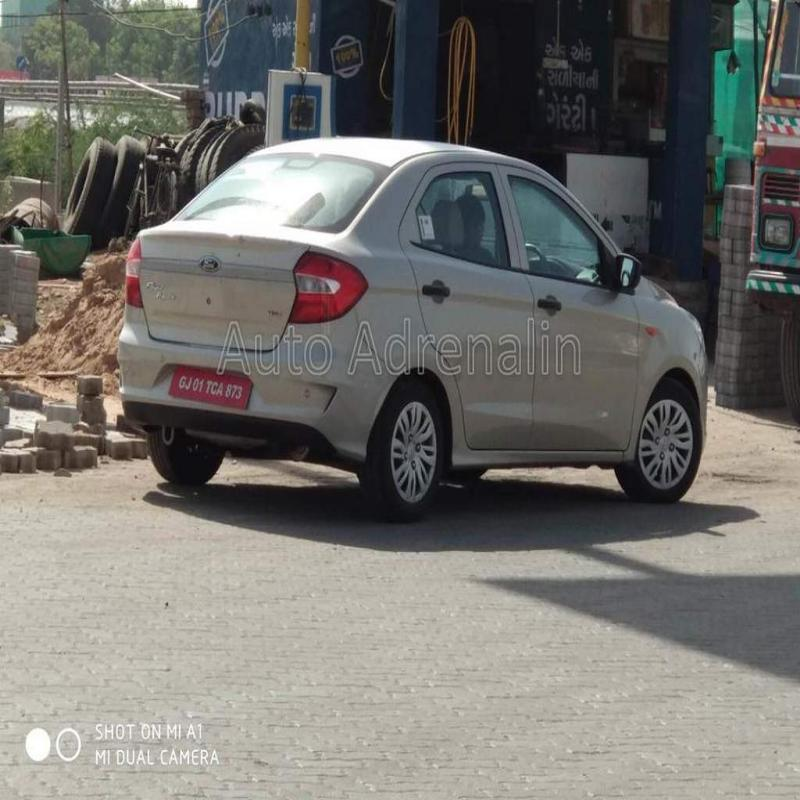car: (132, 108, 698, 550)
